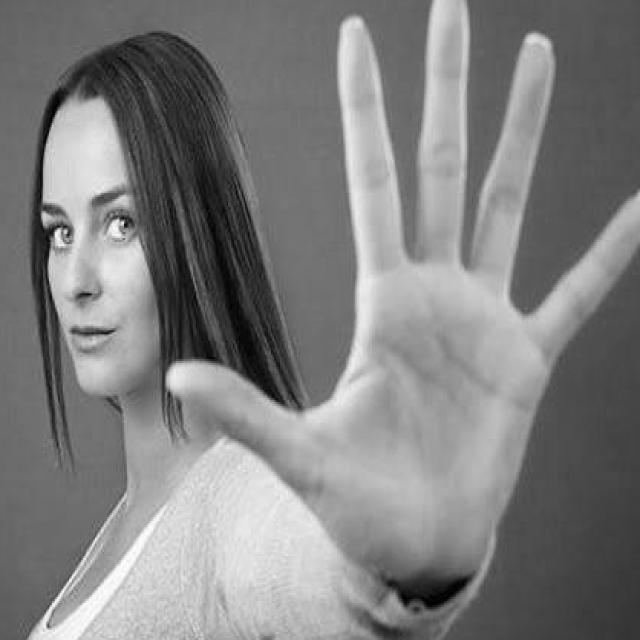stop: (161, 0, 640, 589)
